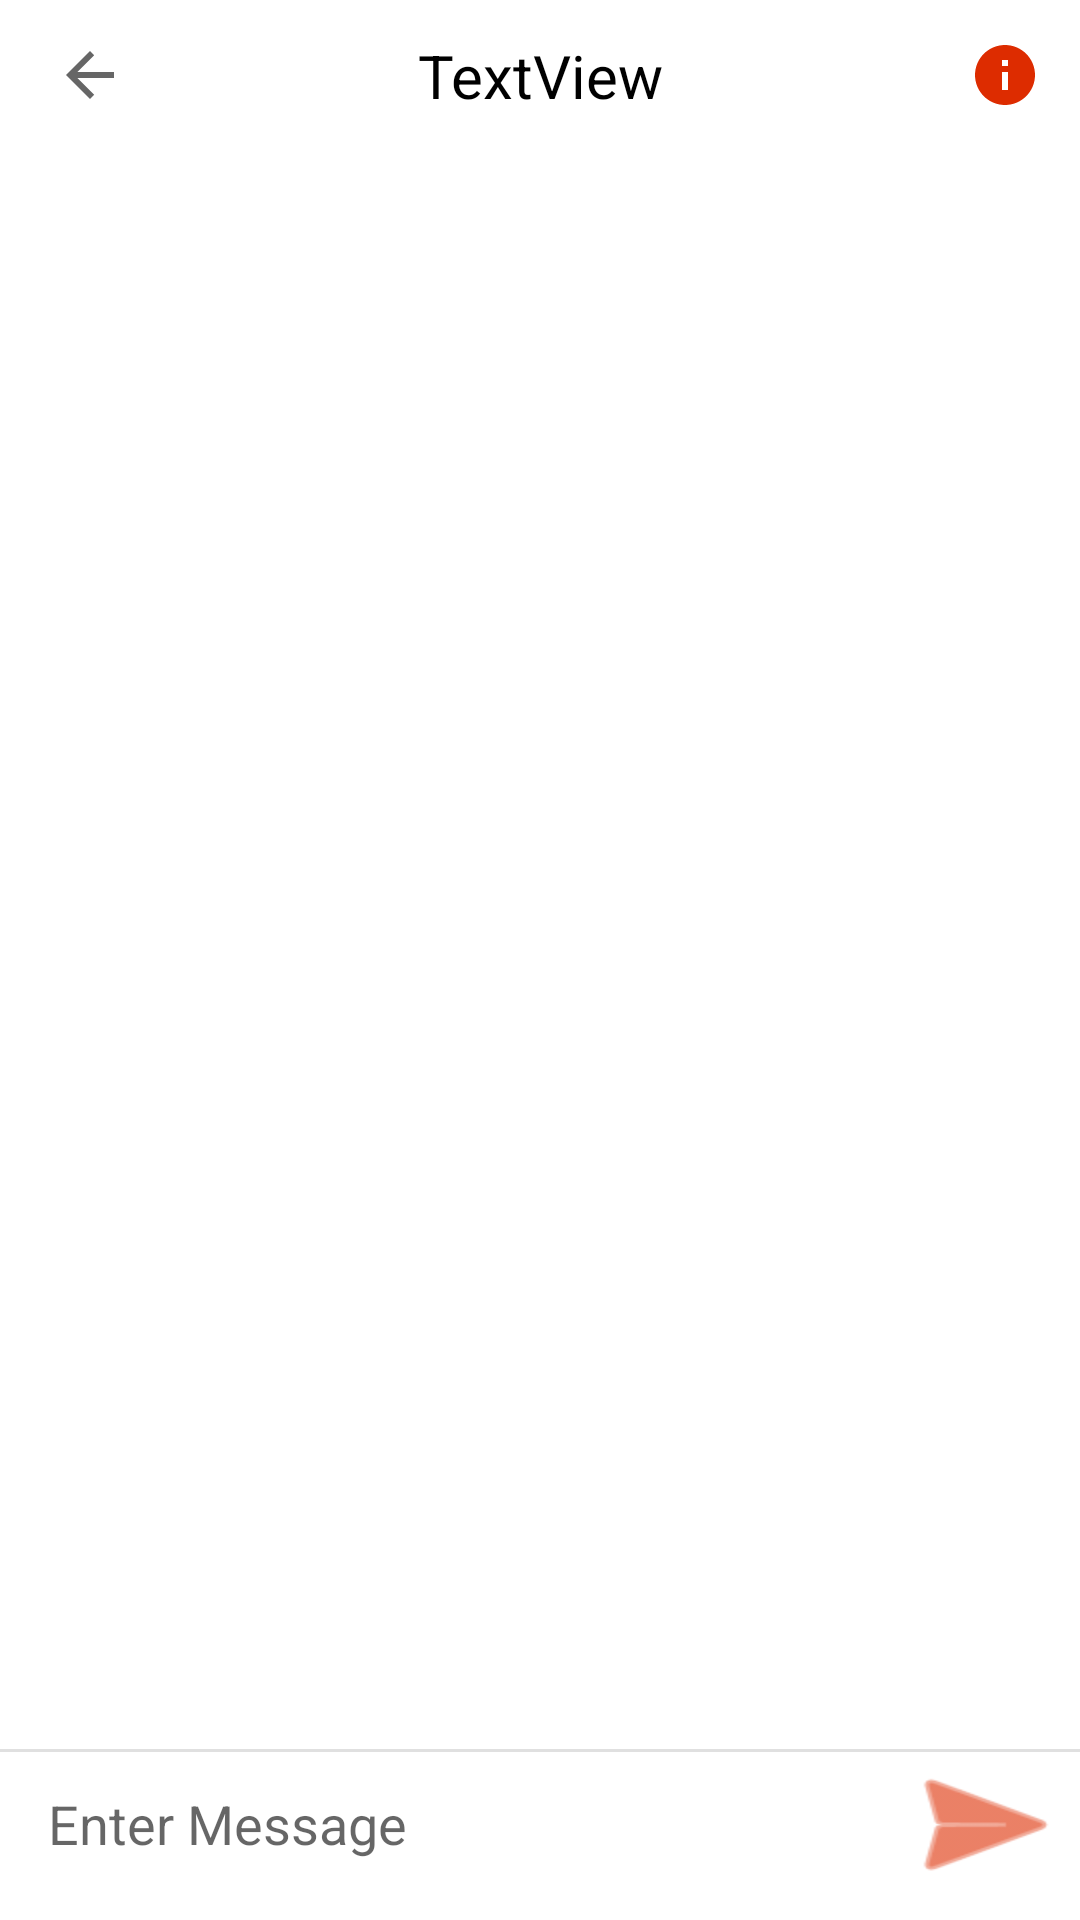

Where icons sit on this 1080*1920 app screen, as (left=x1, top=y1, right=x2, bottom=y2):
info: (left=975, top=45, right=1035, bottom=105)
send: (left=924, top=1779, right=1047, bottom=1870)
